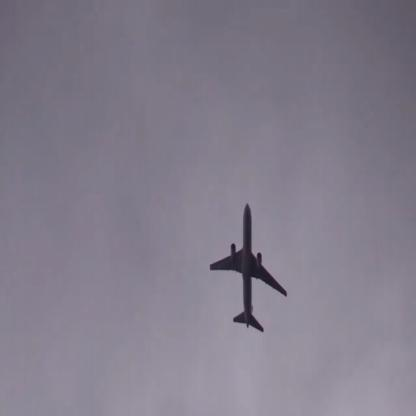CIV_Plane: (209, 201, 288, 330)
